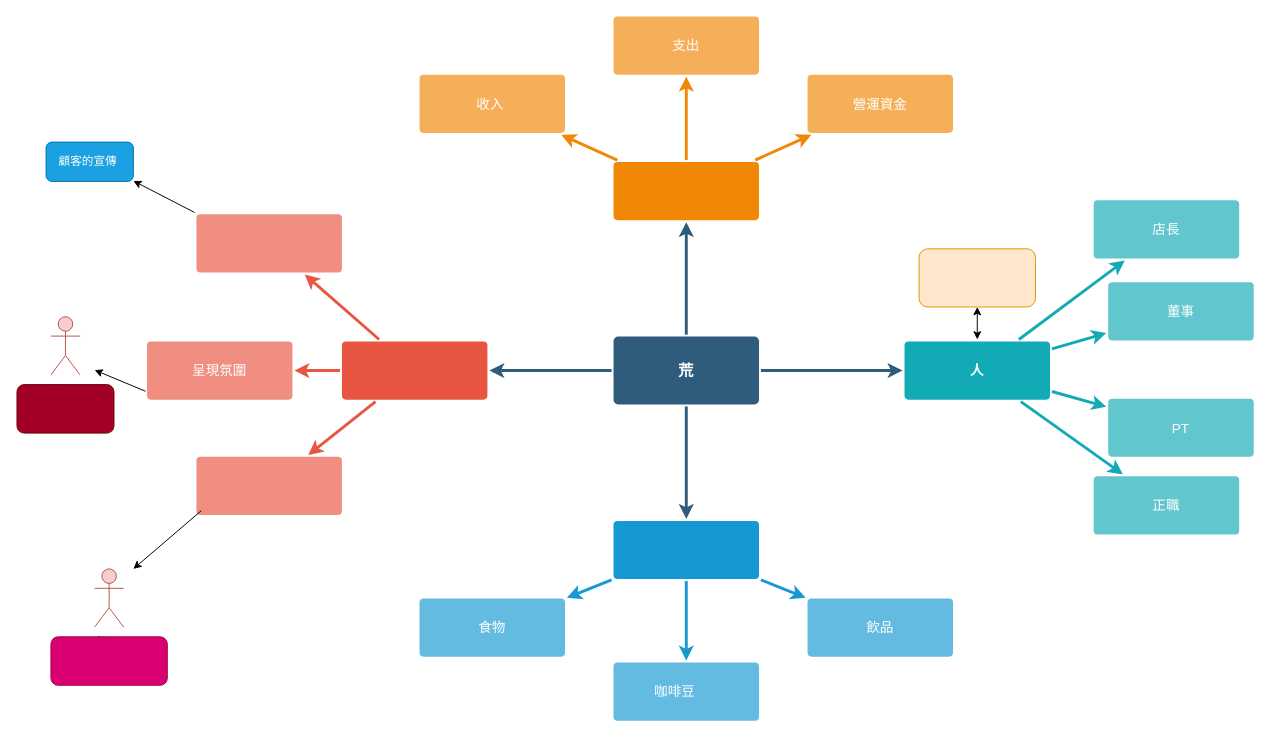
Image size: 1271x737. Some labels were removed from this diagram. Each missing label, with the centre of its shape:
"個人的故事" goes at pixel 268 243.
"商品" goes at pixel 686 549.
"客人" goes at pixel 976 277.
"感情" goes at pixel 268 485.
"特別" goes at pixel 414 370.
"金流" goes at pixel 686 191.
"顧客的吸引" goes at pixel 65 408.
"顧客的培養" goes at pixel 108 660.
